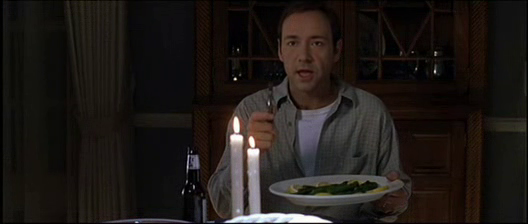face: (282, 24, 331, 90)
ms: (1, 1, 528, 224)
person: (207, 3, 412, 222)
